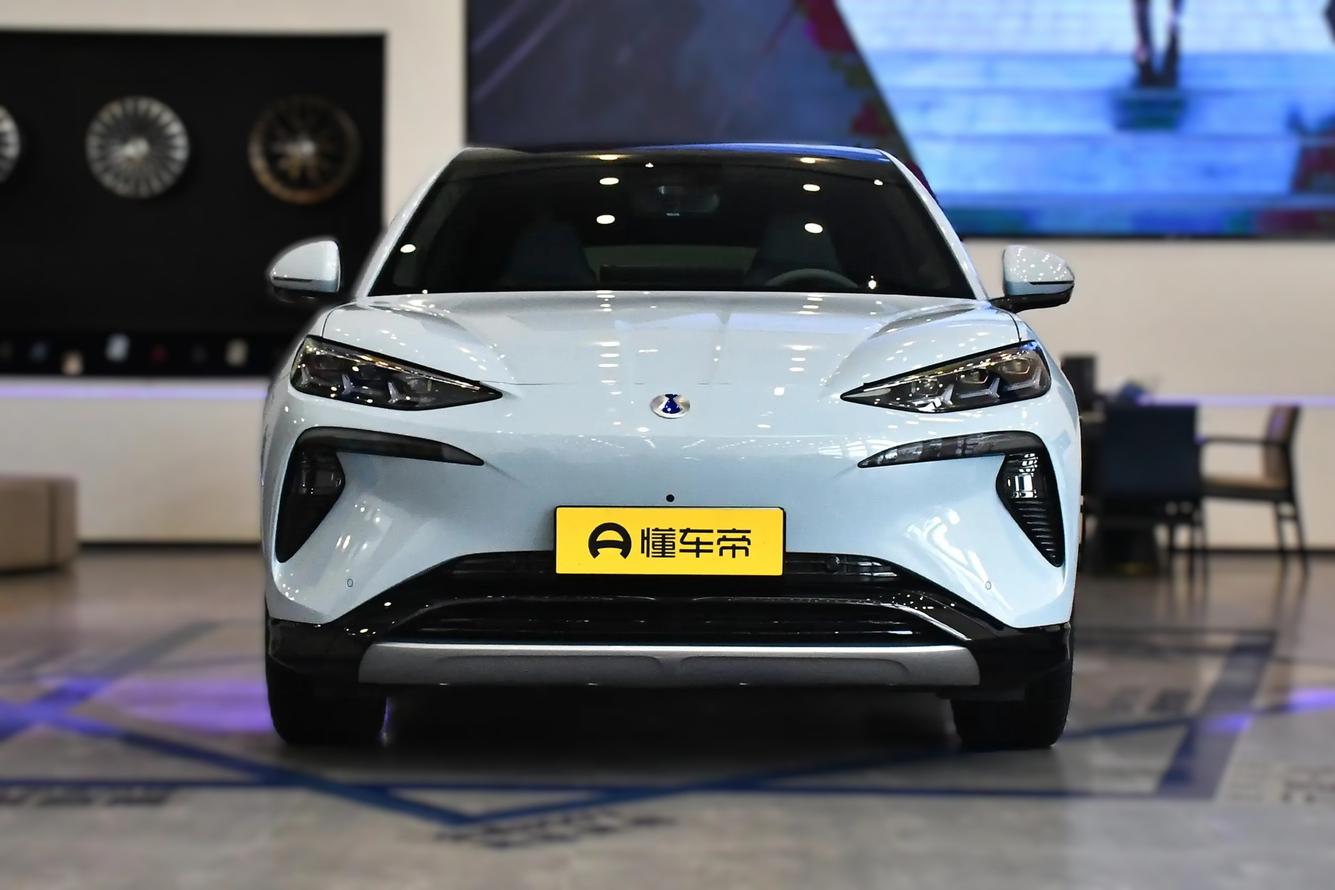DENZA: (651, 393, 690, 418)
